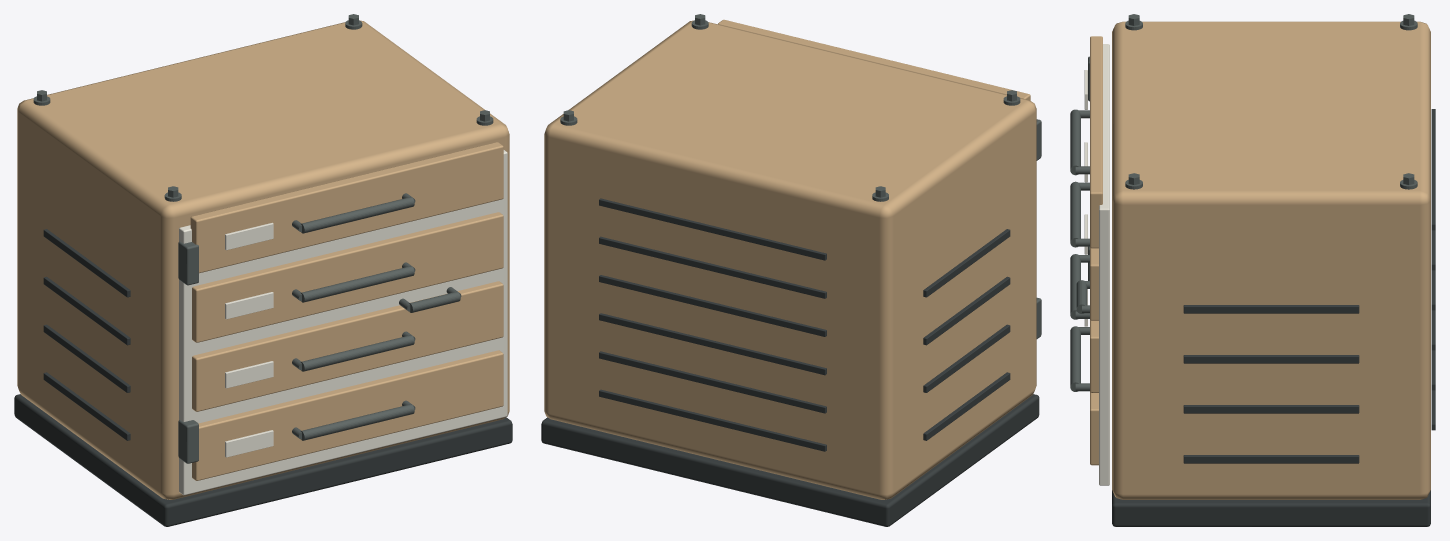
The model's file is public-library-and-reading-garden-public-library-and-r-444bc6f1__30931.glb.
3 views of the same model, side by side, from view 1: azimuth 30°, elevation 25°; view 2: azimuth 150°, elevation 25°; view 3: azimuth 270°, elevation 25° (orthographic). The views are drawn at different scales.
Parts seen in each view (by area): view 1: public-library-and-reading-garden-atlas-cabinet; view 2: public-library-and-reading-garden-atlas-cabinet; view 3: public-library-and-reading-garden-atlas-cabinet.
Boxes of the visible parts, x1,y1,x2,y2 form: public-library-and-reading-garden-atlas-cabinet: (14, 14, 512, 526); public-library-and-reading-garden-atlas-cabinet: (541, 14, 1041, 526); public-library-and-reading-garden-atlas-cabinet: (1070, 14, 1435, 526).
Bounding box in the file's own units: 0.972 × 0.855 × 0.8245.
